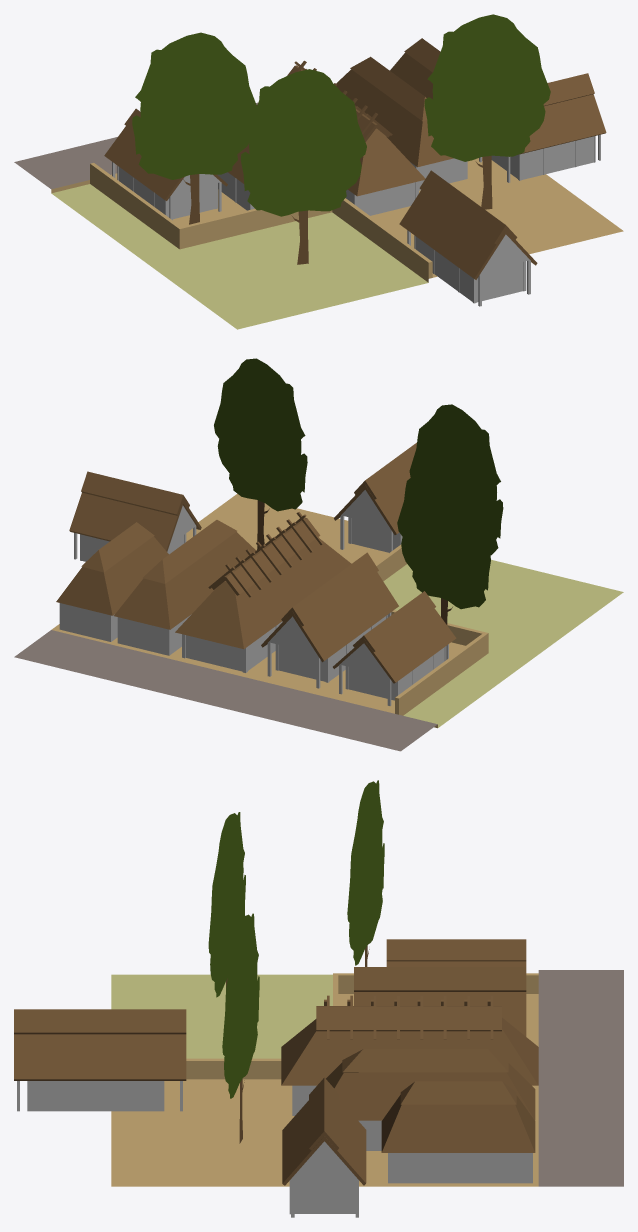
3 views of the same model, one above another, from view 1: azimuth 30°, elevation 25°; view 2: azimuth 150°, elevation 25°; view 3: azimuth 270°, elevation 25° (orthographic). The views are drawn at different scales.
Visible parts, largest first — view 1: rr1w; view 2: rr1w; view 3: rr1w.
Boxes of the visible parts, bbox=[...] form: rr1w: bbox=[14, 14, 623, 329]; rr1w: bbox=[14, 358, 623, 751]; rr1w: bbox=[14, 780, 623, 1217].
Bounding box in the file's own units: 34.42 × 14.71 × 35.7.
